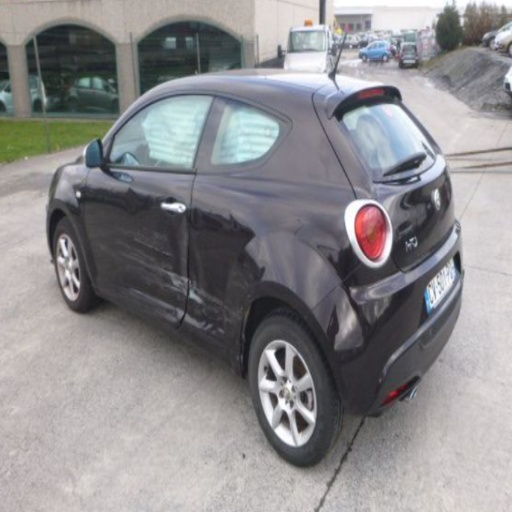dent: (185, 204, 268, 357), (112, 185, 189, 327)
scratch: (126, 222, 187, 302), (190, 277, 242, 326), (127, 278, 187, 318), (96, 242, 120, 262), (235, 328, 245, 361)
